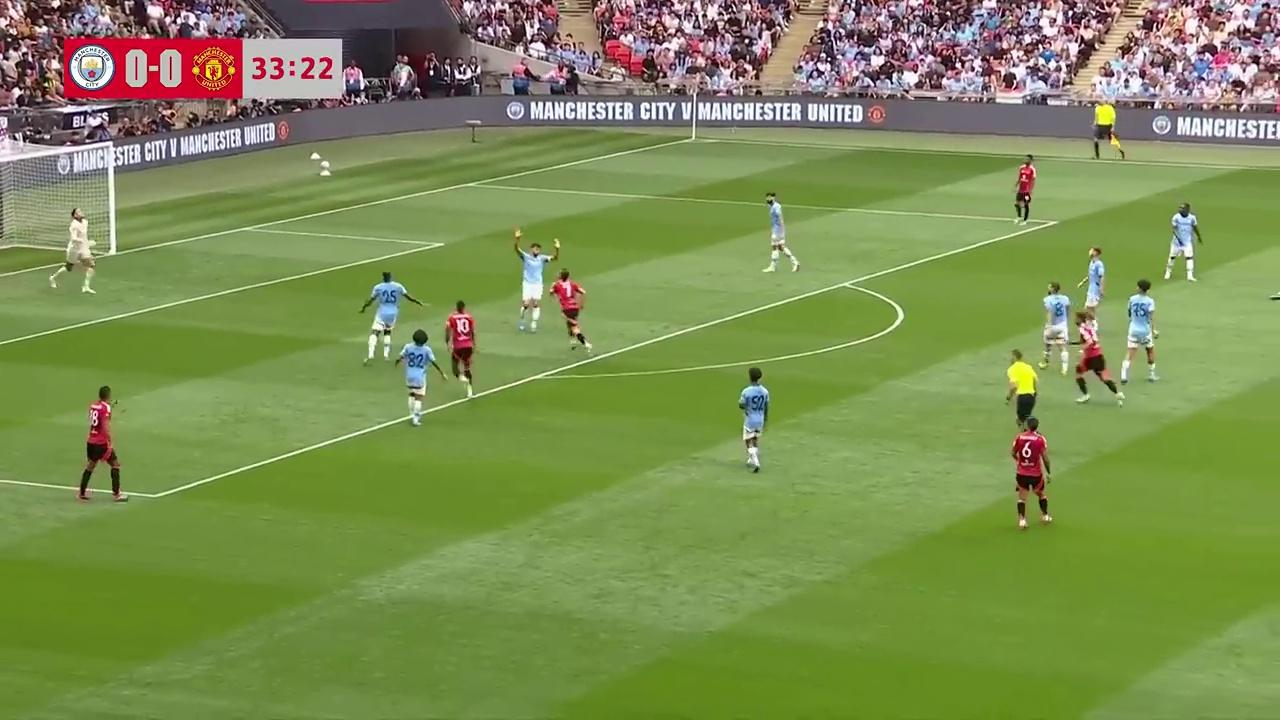player: (75, 385, 126, 503), (1010, 417, 1053, 529), (358, 270, 409, 364), (1073, 312, 1124, 404), (395, 329, 440, 426), (516, 231, 557, 333), (1122, 279, 1159, 381), (549, 269, 591, 351), (57, 208, 97, 294), (737, 367, 769, 473), (1042, 281, 1078, 375), (1163, 202, 1202, 283), (443, 299, 476, 392), (762, 191, 799, 273), (1077, 246, 1105, 317), (1013, 154, 1036, 224)
referee: (1004, 349, 1041, 427), (1091, 100, 1126, 161)
